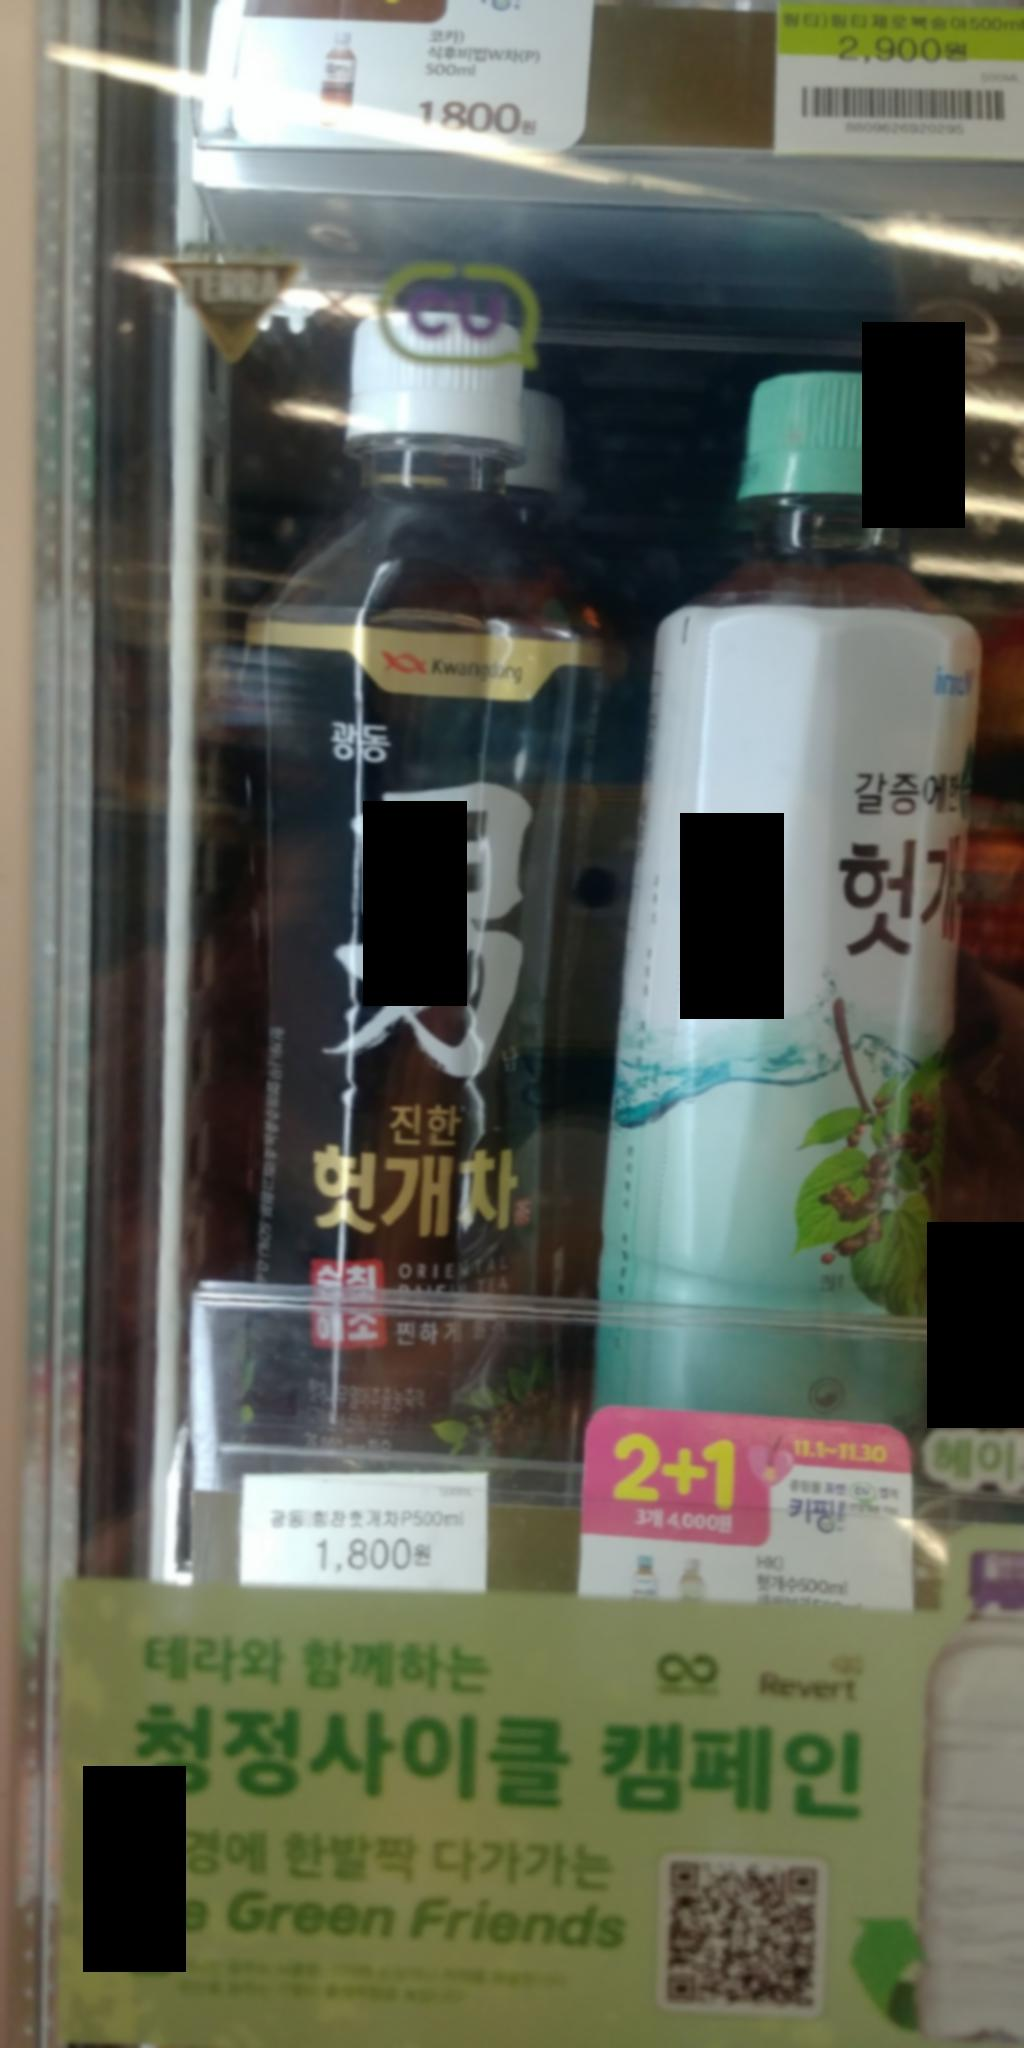heotgaecha: (171, 278, 613, 1464)
